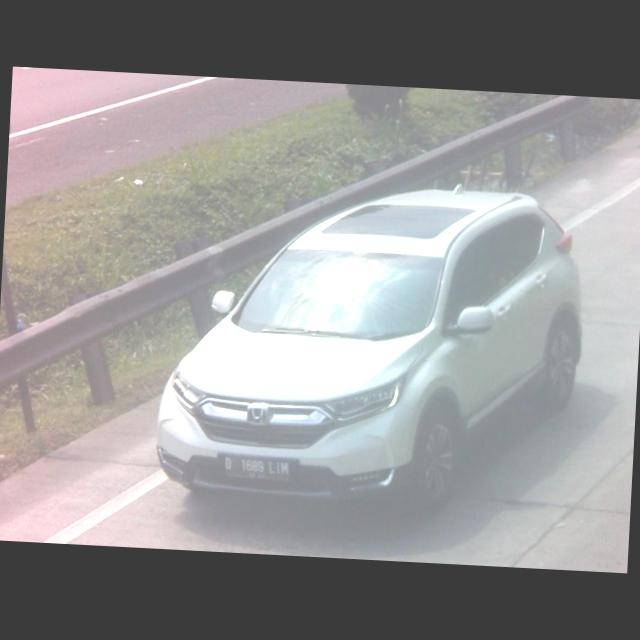plate: (218, 453, 290, 485)
